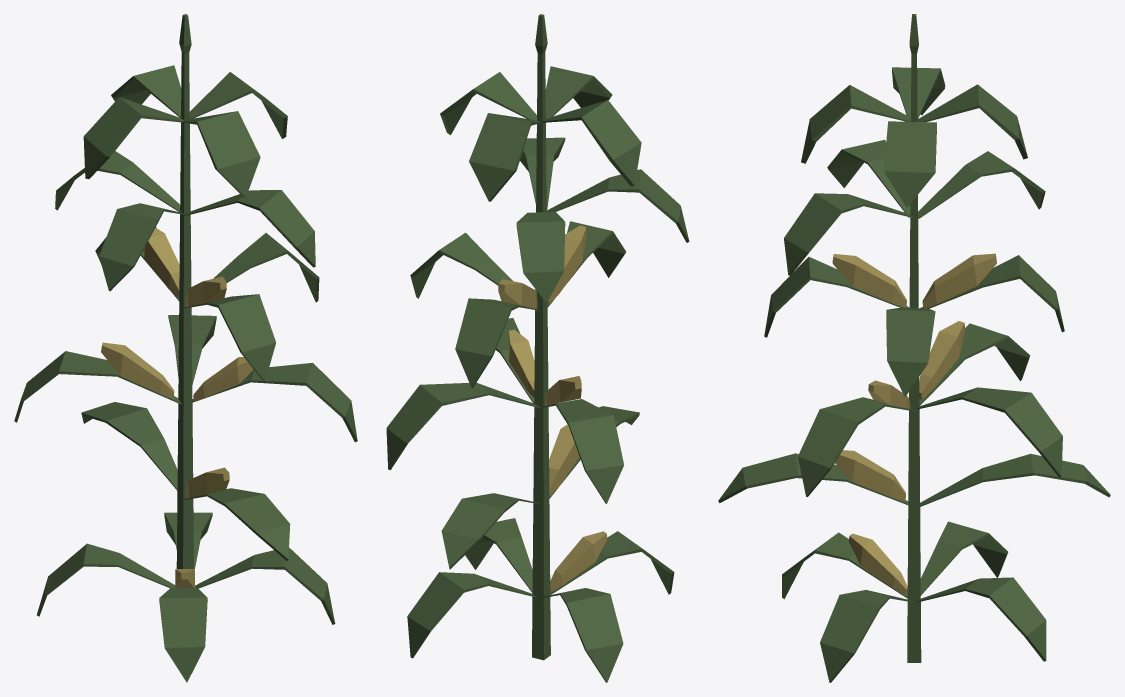
3 views of the same model, side by side, from view 1: azimuth 30°, elevation 25°; view 2: azimuth 150°, elevation 25°; view 3: azimuth 270°, elevation 25° (orthographic).
Parts seen in each view (by area): view 1: Corn_2; view 2: Corn_2; view 3: Corn_2.
Part boxes in pixels (x1,y1,x2,y2): Corn_2: [14, 14, 357, 682]; Corn_2: [386, 14, 689, 682]; Corn_2: [718, 14, 1110, 682].
Bounding box in the file's own units: 0.8237 × 1.98 × 1.09.
